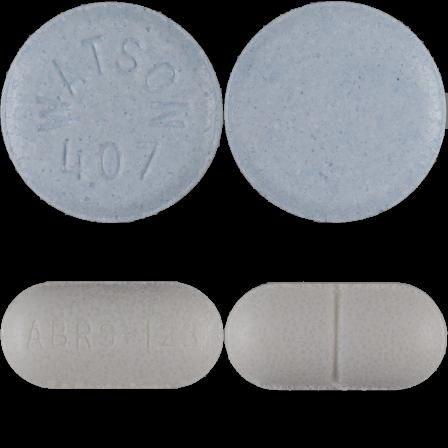63629-2688: (0, 0, 224, 224)
